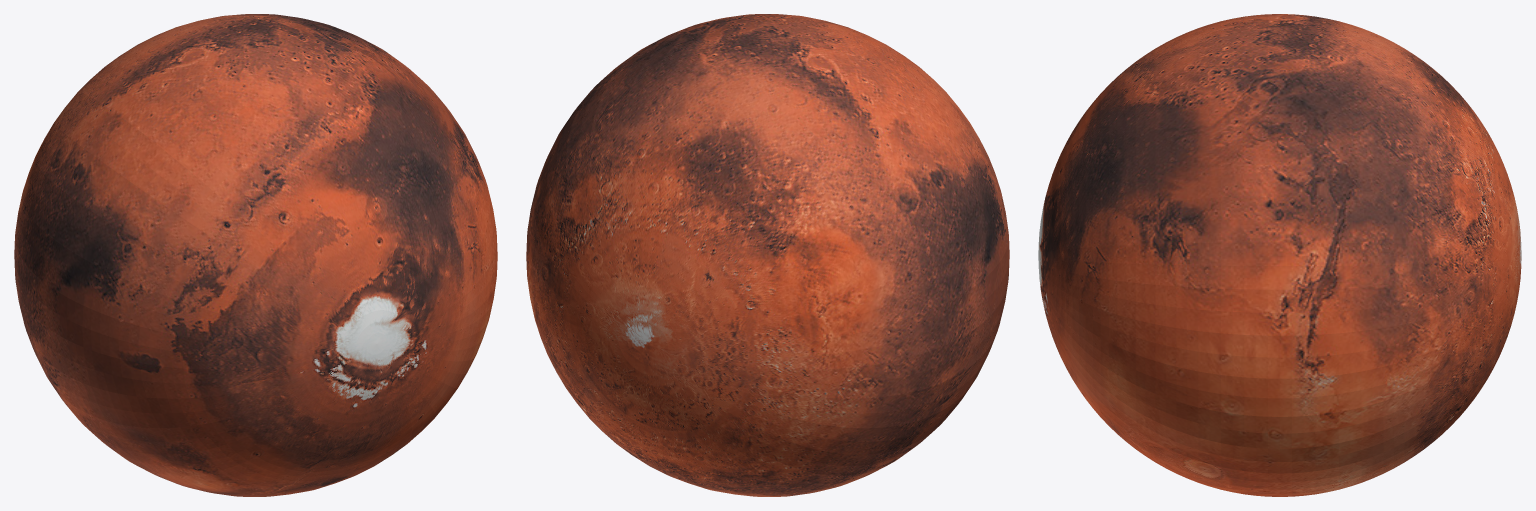
The model's file is Marte.obj.
3 renders of one model, left to right at view 1: azimuth 30°, elevation 25°; view 2: azimuth 150°, elevation 25°; view 3: azimuth 270°, elevation 25°, orthographic.
Visible parts, largest first — view 1: Plane; view 2: Plane; view 3: Plane.
Boxes of the visible parts, x1=… form: Plane: x1=14, y1=14, x2=497, y2=496; Plane: x1=526, y1=14, x2=1009, y2=496; Plane: x1=1038, y1=14, x2=1521, y2=496.
Size of the model in its own units: 5.21 by 5.21 by 5.21.
1 material, 1 textured.
